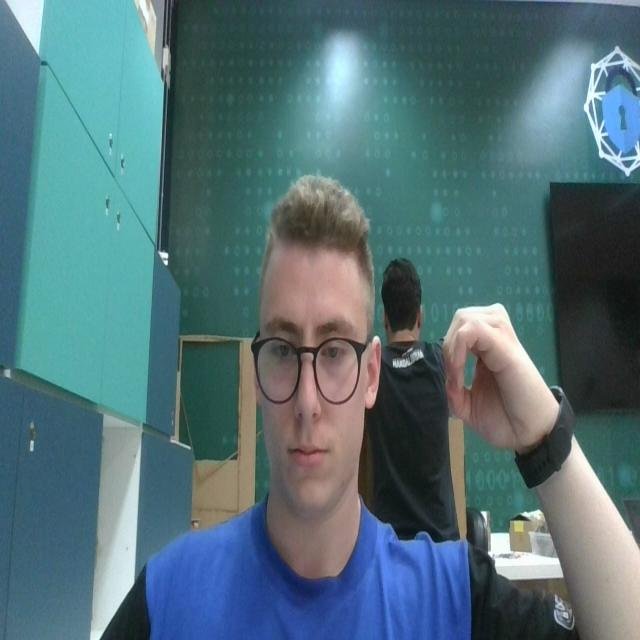O: (437, 297, 541, 444)
